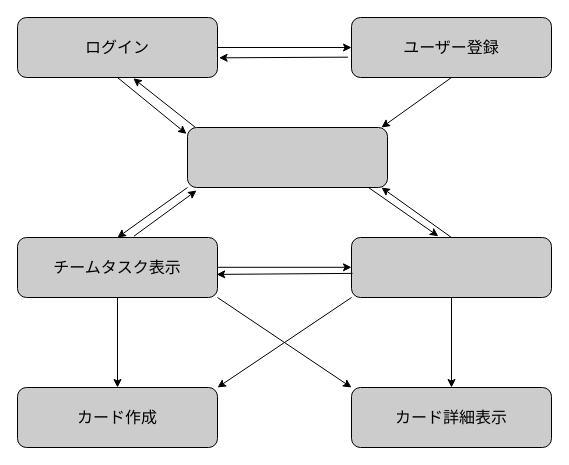
The diagram is 569 pixels wide and 465 high, and some of its shapes have lost their labels. Here are the shapes that lost their labels. From the top down, the centre of each, then its label:
At (x=287, y=157): "ユーザーマイページ".
At (x=451, y=267): "ユーザータスク表示".
